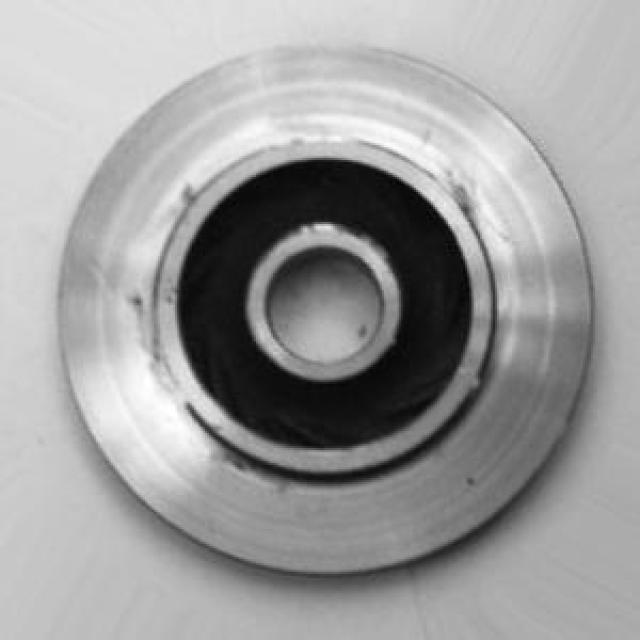Defect: (444, 172, 480, 220)
